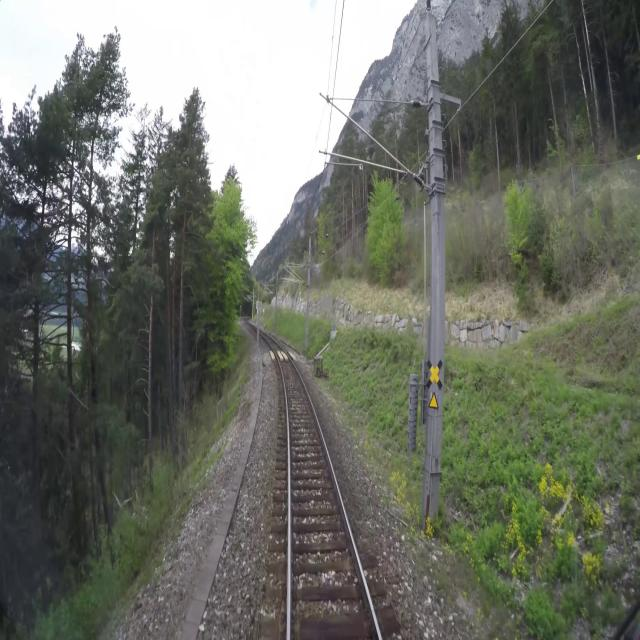rail-track: (269, 339, 378, 639)
